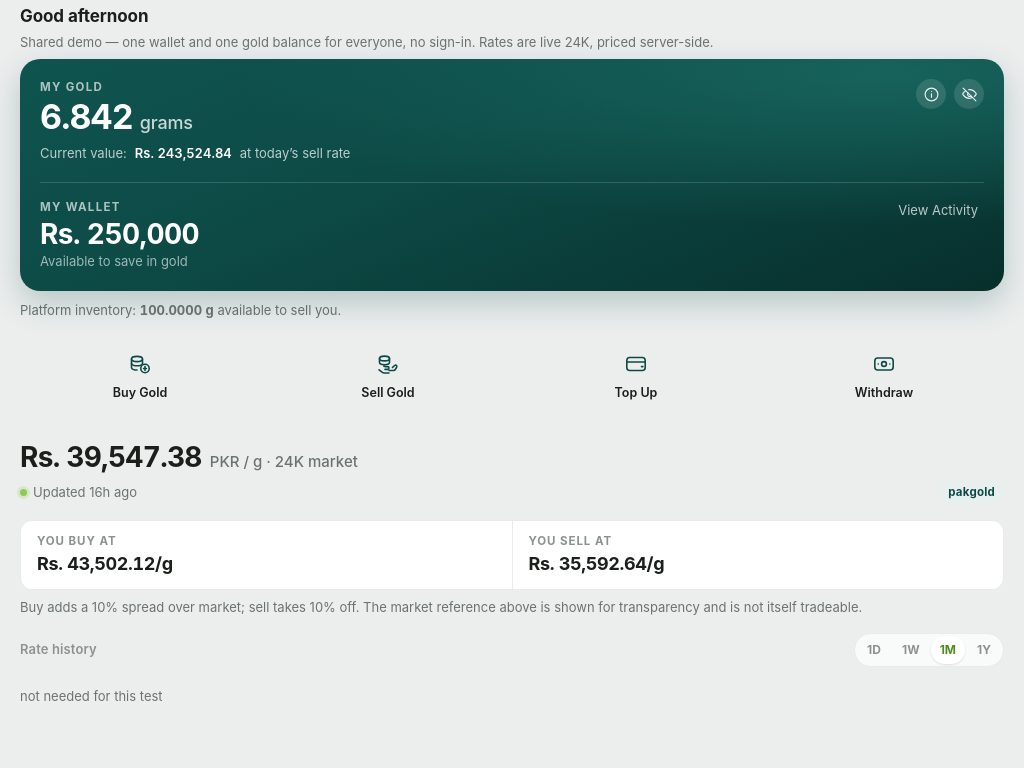
hide balances toggle › reveals the real figures again when toggled back
The width and height of the screenshot is (1024, 768).
expect the text "6.842 grams" is shown: met, box [40,98,193,136]
Click the button named "Hide balances".
click(969, 94)  # box [954,80,984,110]
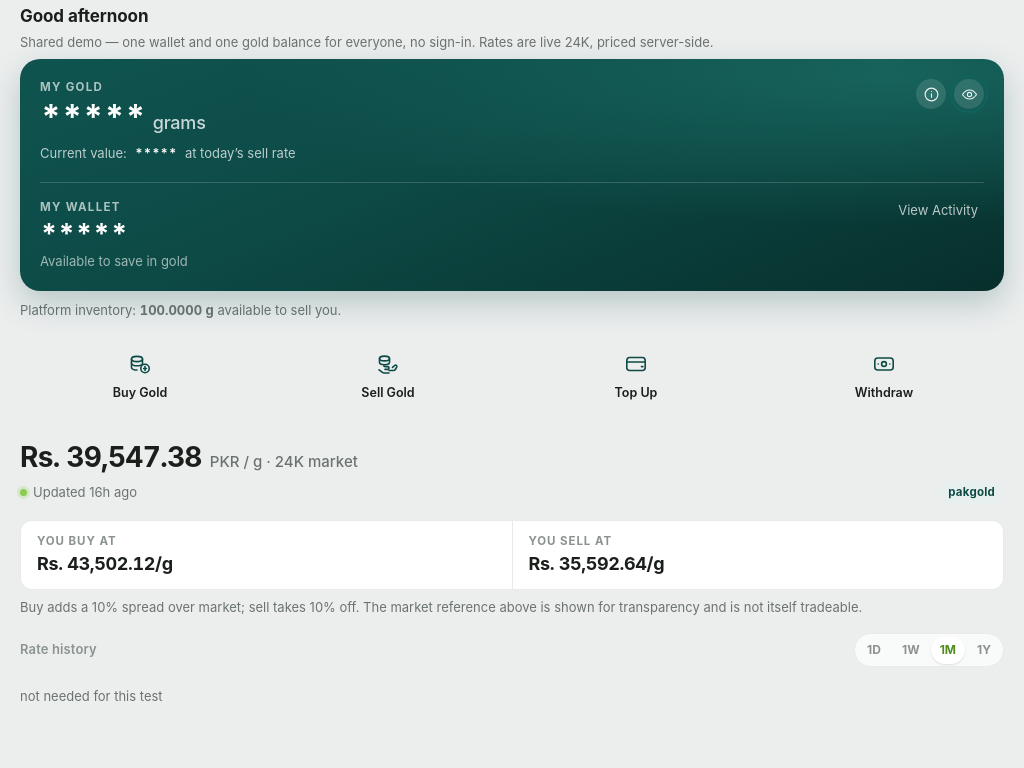
expect the text "6.842" is gone: met
Click the button named "Show balances".
click(969, 94)  # box [954,80,984,110]
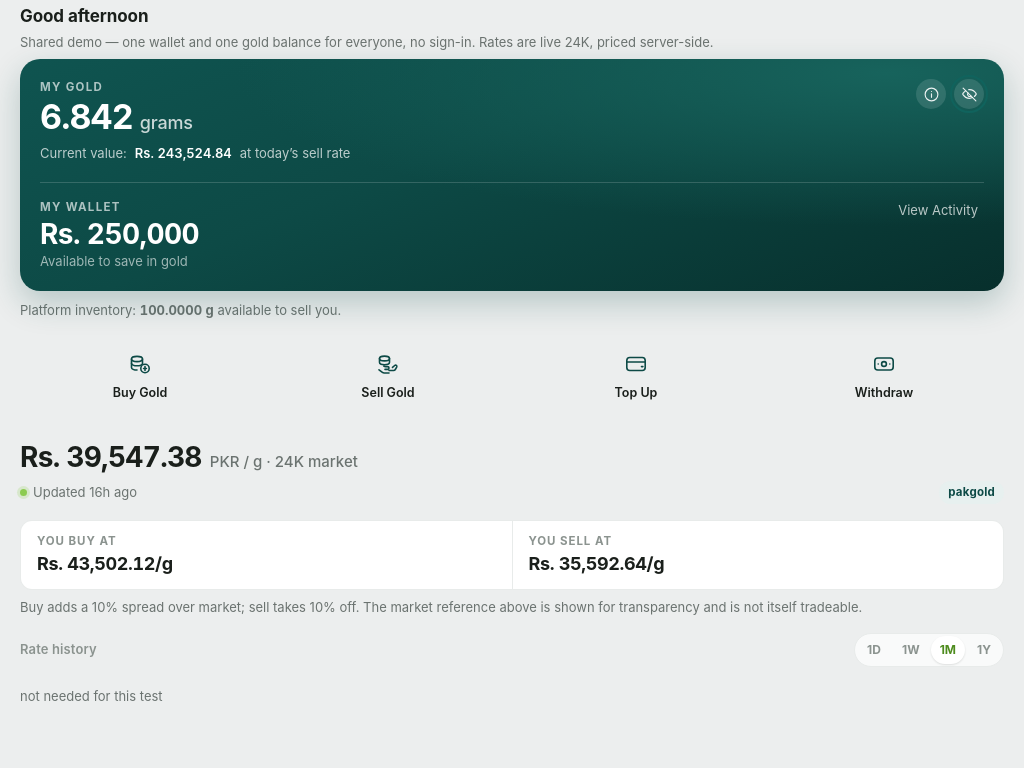
expect the text "6.842 grams" is shown: met, box [40,98,193,136]
expect the text "Rs. 250,000" is shown: met, box [40,218,199,250]
expect the text "*****" is gone: met
